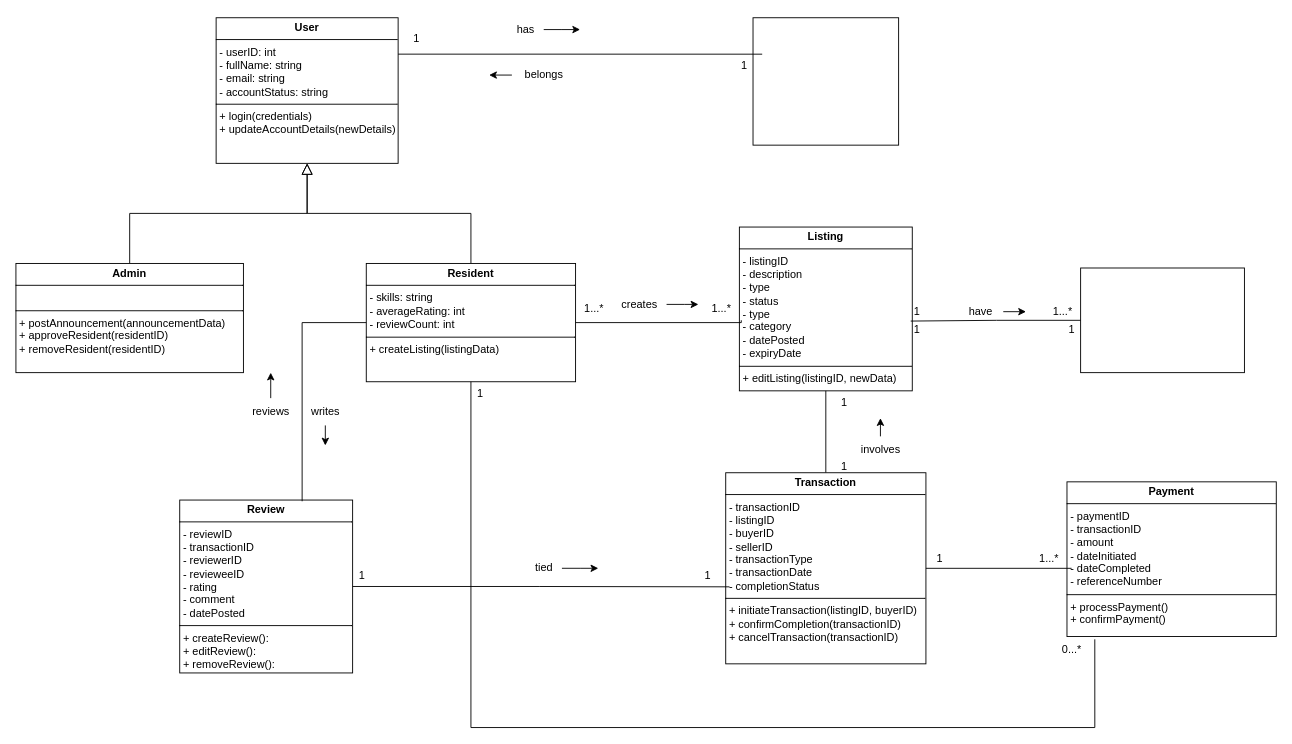
This 1292x744 diagram has some shape labels left out. Here are the shapes that lost their labels. From the top down, the centre of each, then its label:
(x=825, y=81): Profile - profileID - bio + updateProfile(userID) + viewProfile(userID)
(x=1162, y=320): Item - ItemID - name - quantity + updateQuantity(newQuantity) + getItemDetails()
